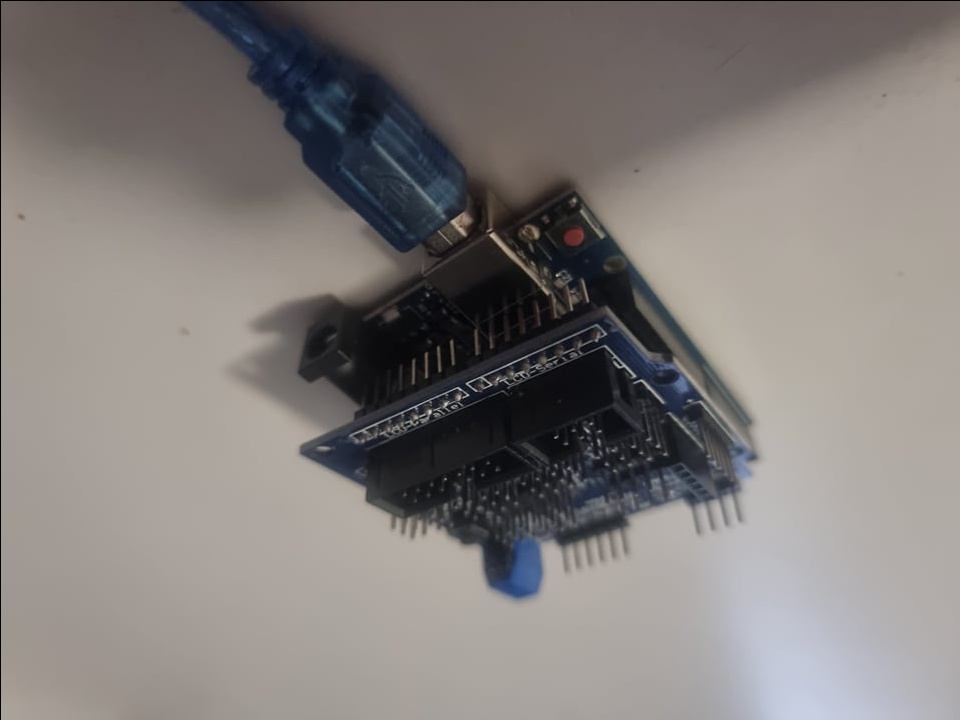5V EXPANSION: (295, 372, 758, 605)
UNO R3: (282, 190, 619, 394)
